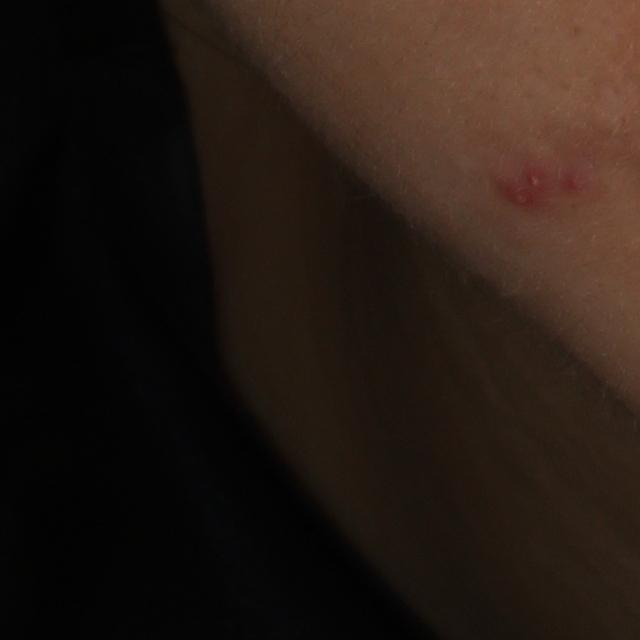papule: (499, 182, 540, 211)
